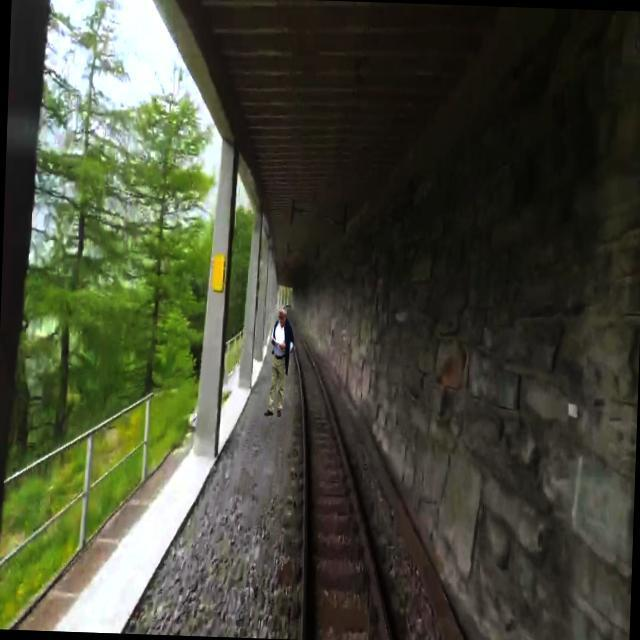rail: (280, 316, 437, 640)
